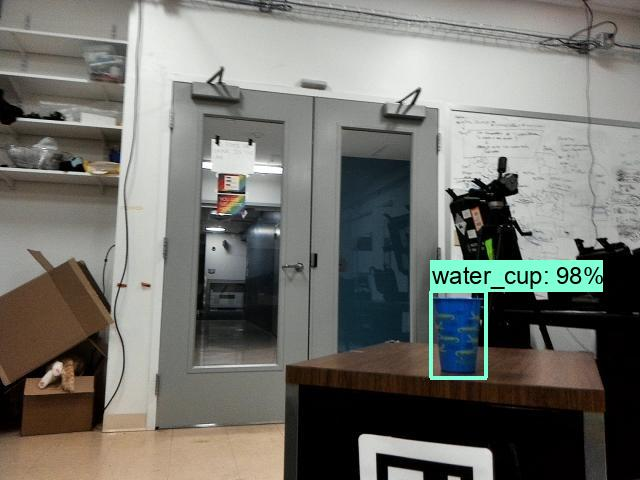water_cup: (428, 287, 488, 381)
